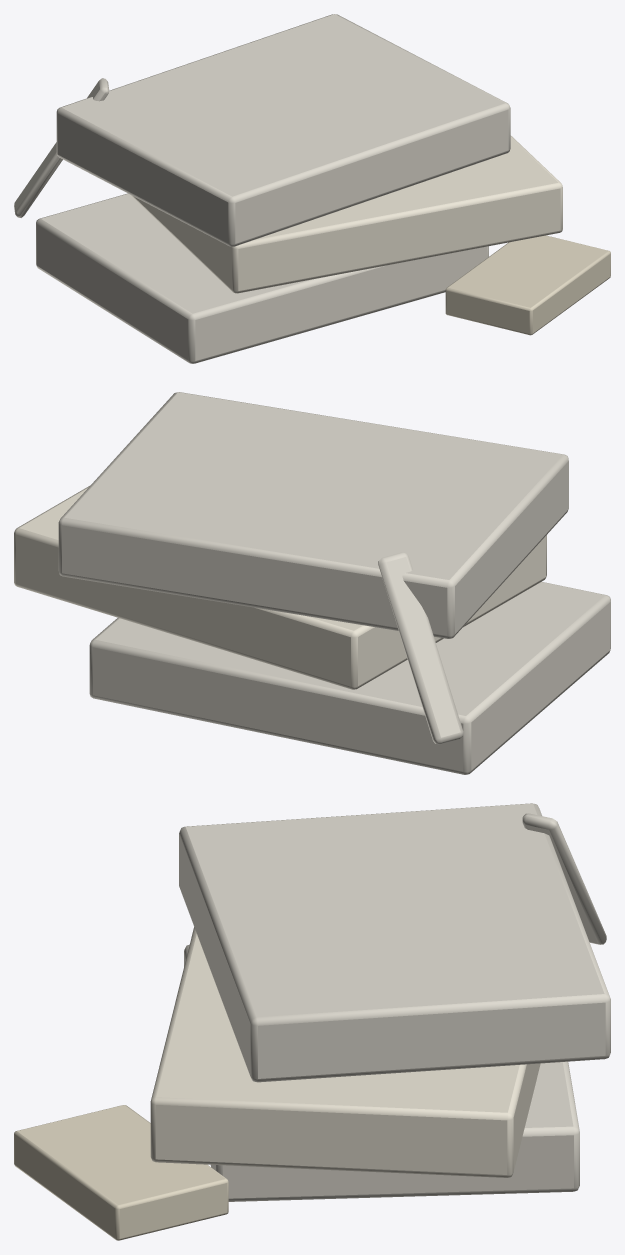
The model's file is AoTangGap.glb.
3 views of the same model, one above another, from view 1: azimuth 30°, elevation 25°; view 2: azimuth 150°, elevation 25°; view 3: azimuth 270°, elevation 25° (orthographic). The views are drawn at different scales.
Visible parts, largest first — view 1: AoTangGap; view 2: AoTangGap; view 3: AoTangGap.
Boxes of the visible parts, x1,y1,x2,y2 form: AoTangGap: (14, 14, 610, 363); AoTangGap: (14, 392, 610, 774); AoTangGap: (14, 803, 610, 1240).
Bounding box in the file's own units: 0.4802 × 0.1882 × 0.458.
